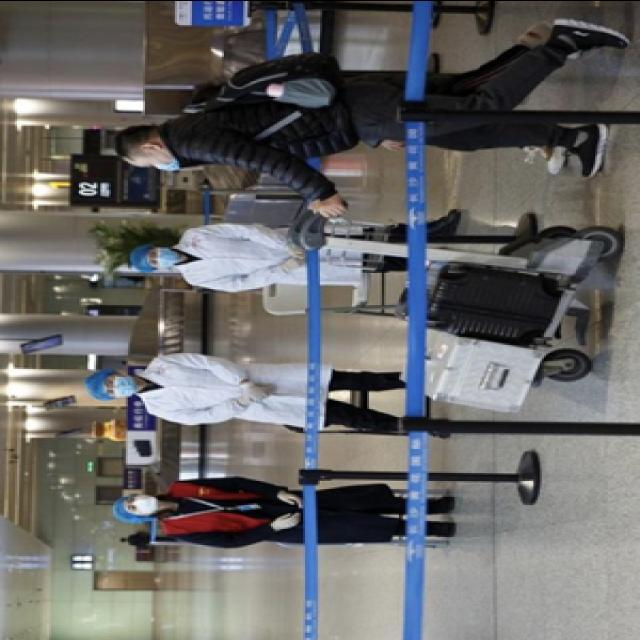mask: (134, 153, 182, 174), (121, 494, 158, 517), (143, 246, 181, 268), (100, 374, 136, 396)
